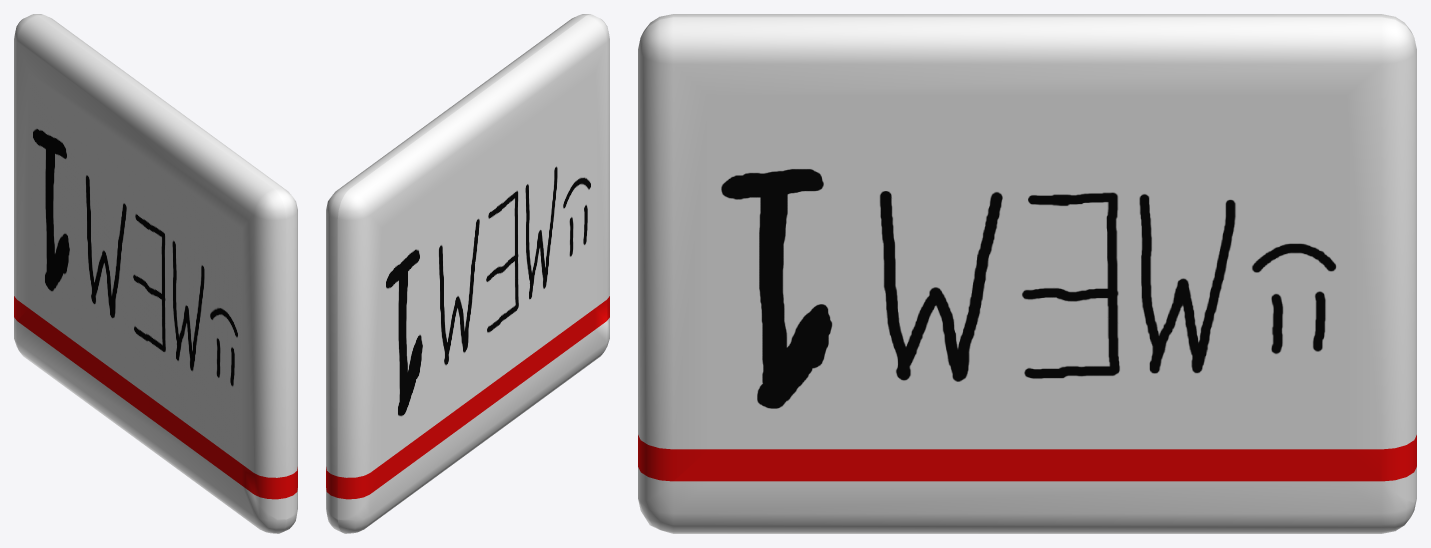
Rendered from card.fbx.
The picture shows the model from 3 angles, left to right: view 1: azimuth 30°, elevation 25°; view 2: azimuth 150°, elevation 25°; view 3: azimuth 270°, elevation 25°; orthographic projection. The views are drawn at different scales.
Visible parts, largest first — view 1: Cube; view 2: Cube; view 3: Cube.
Part boxes in pixels (x1,y1,x2,y2): Cube: (14,14,297,533); Cube: (326,14,609,533); Cube: (638,14,1416,533).
Size of the model in its own units: 200 by 1600 by 2200.
3 materials, 1 textured.
